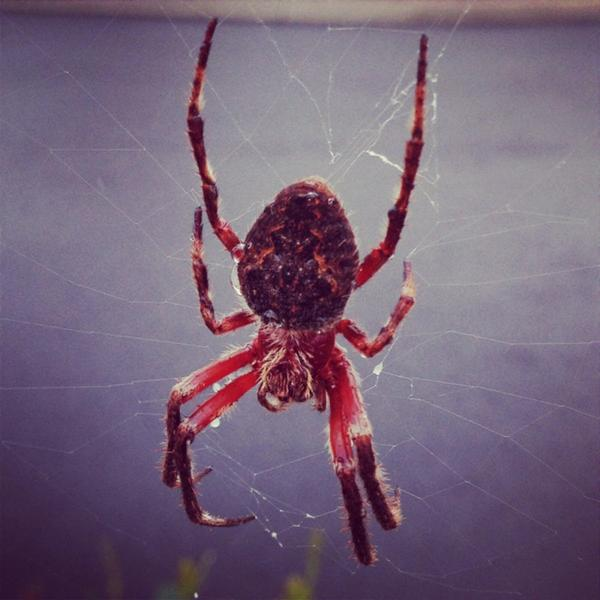Garden Orb Weaver Spider: (168, 28, 429, 563)
